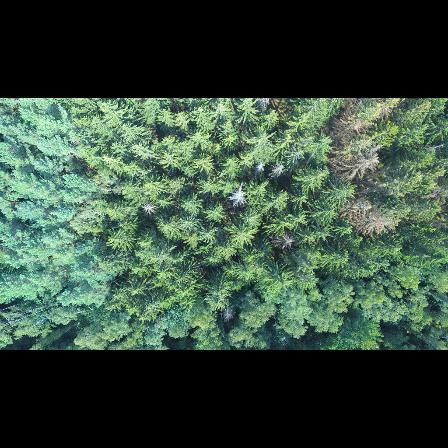Dead: (341, 197, 398, 237), (333, 151, 381, 180), (227, 182, 249, 208), (268, 162, 286, 180), (276, 234, 298, 248), (251, 161, 267, 176), (140, 202, 158, 215)
